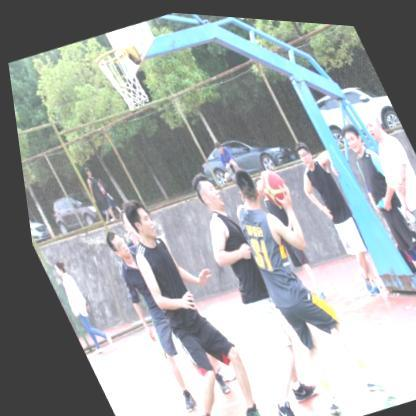basketball: (249, 161, 286, 202)
